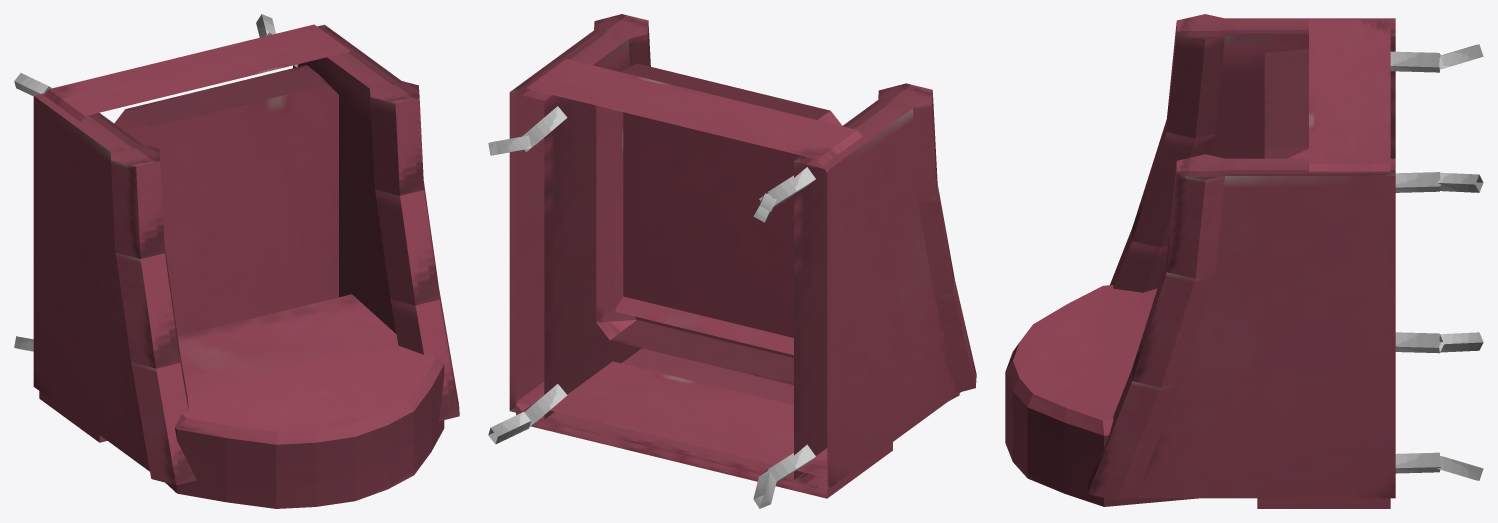
Rendered from pz_chair_seating_indoor_03_victorian_2_fidelity_r1.obj.
3 renders of one model, left to right at view 1: azimuth 30°, elevation 25°; view 2: azimuth 150°, elevation 25°; view 3: azimuth 270°, elevation 25°, orthographic. The views are drawn at different scales.
Visible parts, largest first — view 1: pz_chair_seating_indoor_03_victorian_2__seat_0__seat, pz_chair_seating_indoor_03_victorian_2__sculpted_back__back, pz_chair_seating_indoor_03_victorian_2__curved_victorian_side_-1, pz_chair_seating_indoor_03_victorian_2__curved_victorian_side_1_, pz_chair_seating_indoor_03_victorian_2__lower_body__body, pz_chair_seating_indoor_03_victorian_2__victorian_roll_-1_1__arm, pz_chair_seating_indoor_03_victorian_2__victorian_roll_1_1__arm, pz_chair_seating_indoor_03_victorian_2__victorian_roll_-1_2__arm, pz_chair_seating_indoor_03_victorian_2__victorian_roll_1_2__arm, pz_chair_seating_indoor_03_victorian_2__victorian_roll_-1_0__arm, pz_chair_seating_indoor_03_victorian_2__sculpted_back__frame, pz_chair_seating_indoor_03_victorian_2__victorian_roll_1_0__arm (+1 smaller); view 2: pz_chair_seating_indoor_03_victorian_2__seat_0__seat, pz_chair_seating_indoor_03_victorian_2__curved_victorian_side_-1, pz_chair_seating_indoor_03_victorian_2__lower_body__body, pz_chair_seating_indoor_03_victorian_2__curved_victorian_side_1_, pz_chair_seating_indoor_03_victorian_2__rear_body_bridge__body, pz_chair_seating_indoor_03_victorian_2__sculpted_back__back, pz_chair_seating_indoor_03_victorian_2__sculpted_back__frame, pz_chair_seating_indoor_03_victorian_2__victorian_roll_-1_2__arm, pz_chair_seating_indoor_03_victorian_2__victorian_roll_-1_0__arm, pz_chair_seating_indoor_03_victorian_2__victorian_roll_-1_1__arm, pz_chair_seating_indoor_03_victorian_2__victorian_roll_1_2__arm, pz_chair_seating_indoor_03_victorian_2__curved_foot_-1_1_1__fram (+6 smaller); view 3: pz_chair_seating_indoor_03_victorian_2__curved_victorian_side_1_, pz_chair_seating_indoor_03_victorian_2__sculpted_back__back, pz_chair_seating_indoor_03_victorian_2__lower_body__body, pz_chair_seating_indoor_03_victorian_2__curved_victorian_side_-1, pz_chair_seating_indoor_03_victorian_2__victorian_roll_1_0__arm, pz_chair_seating_indoor_03_victorian_2__victorian_roll_-1_2__arm, pz_chair_seating_indoor_03_victorian_2__victorian_roll_1_2__arm, pz_chair_seating_indoor_03_victorian_2__victorian_roll_1_1__arm, pz_chair_seating_indoor_03_victorian_2__seat_0__seat, pz_chair_seating_indoor_03_victorian_2__victorian_roll_-1_1__arm, pz_chair_seating_indoor_03_victorian_2__victorian_roll_-1_0__arm, pz_chair_seating_indoor_03_victorian_2__sculpted_back__frame (+9 smaller).
Boxes of the visible parts, x1,y1,x2,y2 form: pz_chair_seating_indoor_03_victorian_2__seat_0__seat: (114,65,338,336); pz_chair_seating_indoor_03_victorian_2__sculpted_back__back: (165,294,444,508); pz_chair_seating_indoor_03_victorian_2__curved_victorian_side_-1: (33,93,149,471); pz_chair_seating_indoor_03_victorian_2__curved_victorian_side_1_: (293,24,403,333); pz_chair_seating_indoor_03_victorian_2__lower_body__body: (44,24,352,121); pz_chair_seating_indoor_03_victorian_2__victorian_roll_-1_1__arm: (115,244,180,368); pz_chair_seating_indoor_03_victorian_2__victorian_roll_1_1__arm: (375,181,439,305); pz_chair_seating_indoor_03_victorian_2__victorian_roll_-1_2__arm: (110,142,164,258); pz_chair_seating_indoor_03_victorian_2__victorian_roll_1_2__arm: (370,81,423,195); pz_chair_seating_indoor_03_victorian_2__victorian_roll_-1_0__arm: (131,352,196,485); pz_chair_seating_indoor_03_victorian_2__sculpted_back__frame: (175,356,443,444); pz_chair_seating_indoor_03_victorian_2__victorian_roll_1_0__arm: (390,289,459,421); pz_chair_seating_indoor_03_victorian_2__seat_0__seat: (596,63,842,385); pz_chair_seating_indoor_03_victorian_2__curved_victorian_side_-1: (794,98,960,488); pz_chair_seating_indoor_03_victorian_2__lower_body__body: (516,59,862,487); pz_chair_seating_indoor_03_victorian_2__curved_victorian_side_1_: (509,29,641,419); pz_chair_seating_indoor_03_victorian_2__rear_body_bridge__body: (516,361,892,498); pz_chair_seating_indoor_03_victorian_2__sculpted_back__back: (621,348,959,405); pz_chair_seating_indoor_03_victorian_2__sculpted_back__frame: (615,296,793,355); pz_chair_seating_indoor_03_victorian_2__victorian_roll_-1_2__arm: (878,83,937,201); pz_chair_seating_indoor_03_victorian_2__victorian_roll_-1_0__arm: (935,279,976,392); pz_chair_seating_indoor_03_victorian_2__victorian_roll_-1_1__arm: (918,185,954,297); pz_chair_seating_indoor_03_victorian_2__victorian_roll_1_2__arm: (594,14,650,66); pz_chair_seating_indoor_03_victorian_2__curved_foot_-1_1_1__fram: (759,167,815,207); pz_chair_seating_indoor_03_victorian_2__curved_victorian_side_1_: (1128,158,1395,498); pz_chair_seating_indoor_03_victorian_2__sculpted_back__back: (1005,285,1198,506); pz_chair_seating_indoor_03_victorian_2__lower_body__body: (1309,20,1390,171); pz_chair_seating_indoor_03_victorian_2__curved_victorian_side_-1: (1208,18,1395,158); pz_chair_seating_indoor_03_victorian_2__victorian_roll_1_0__arm: (1087,368,1180,500); pz_chair_seating_indoor_03_victorian_2__victorian_roll_-1_2__arm: (1167,14,1233,138); pz_chair_seating_indoor_03_victorian_2__victorian_roll_1_2__arm: (1167,154,1233,278); pz_chair_seating_indoor_03_victorian_2__victorian_roll_1_1__arm: (1132,259,1214,387); pz_chair_seating_indoor_03_victorian_2__seat_0__seat: (1264,48,1308,158); pz_chair_seating_indoor_03_victorian_2__victorian_roll_-1_1__arm: (1132,119,1214,247); pz_chair_seating_indoor_03_victorian_2__victorian_roll_-1_0__arm: (1110,228,1167,292); pz_chair_seating_indoor_03_victorian_2__sculpted_back__frame: (1005,342,1113,435).
Size of the model in its own units: 0.8829 by 0.8694 by 1.07.
Materials: 1 (1 with a texture image).
